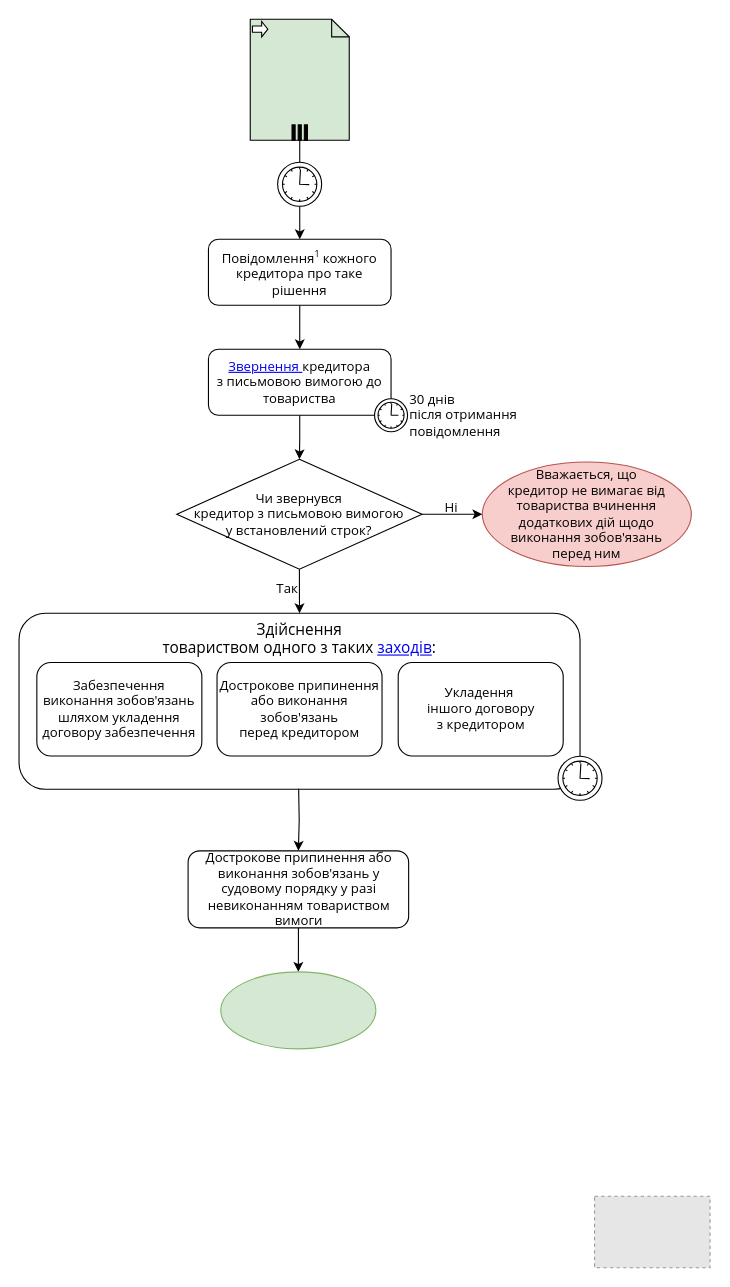
This 730x1287 diagram has some shape labels left out. Grey dashed boxes stand in for pictures. The shapes that lost their labels are listed below. From the top down, each one's centre as x and y in pixels, then its label:
At pixel 299 79: "Рішення про зменшення статутного капіталу товариства".
At pixel 299 183: "10 днів".
At pixel 579 777: "30 днів".
At pixel 298 1010: "Зменшення статутного капіталу".
